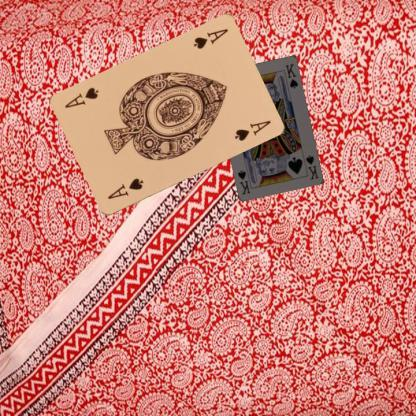As: (105, 176, 145, 201), (190, 26, 229, 51)
Ks: (303, 152, 320, 181)
